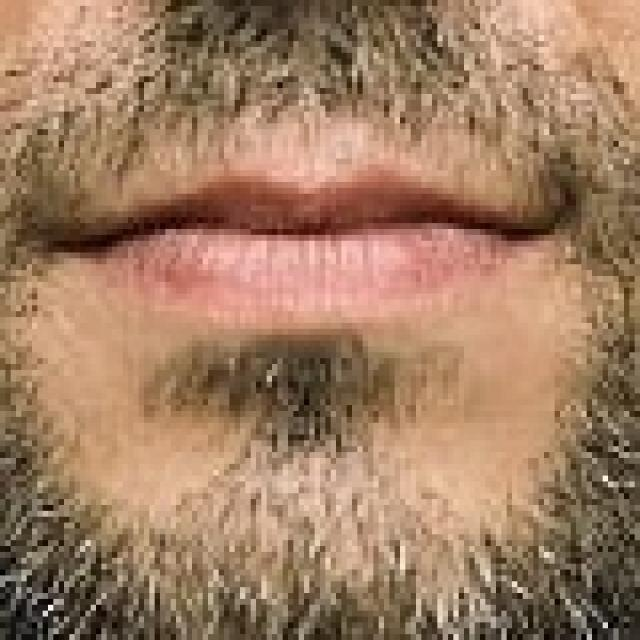closed-mouth: (37, 158, 576, 323)
